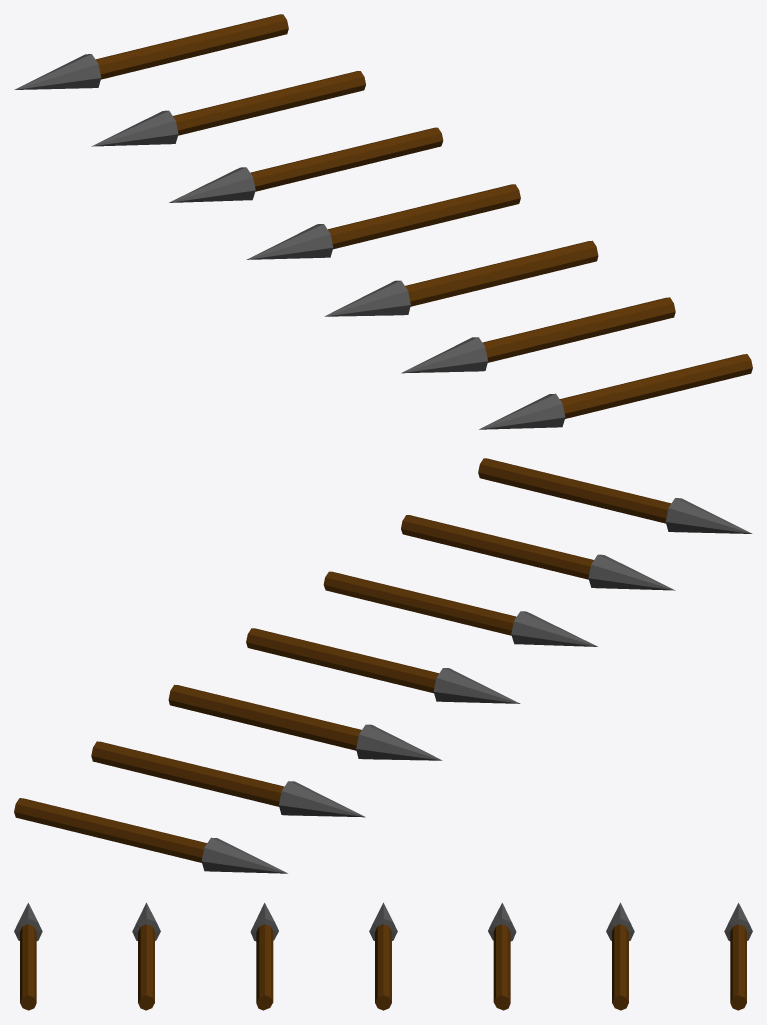
Rendered from arrow.fbx.
The picture shows the model from 3 angles, top to bottom: view 1: azimuth 30°, elevation 25°; view 2: azimuth 150°, elevation 25°; view 3: azimuth 270°, elevation 25°; orthographic projection. The views are drawn at different scales.
Visible parts, largest first — view 1: Cylinder.016; view 2: Cylinder.016; view 3: Cylinder.016.
Part boxes in pixels (x1,y1,x2,y2): Cylinder.016: [14, 14, 752, 429]; Cylinder.016: [14, 458, 752, 873]; Cylinder.016: [14, 902, 752, 1010].
Bounding box in the file's own units: 87.6 × 10.57 × 272.
